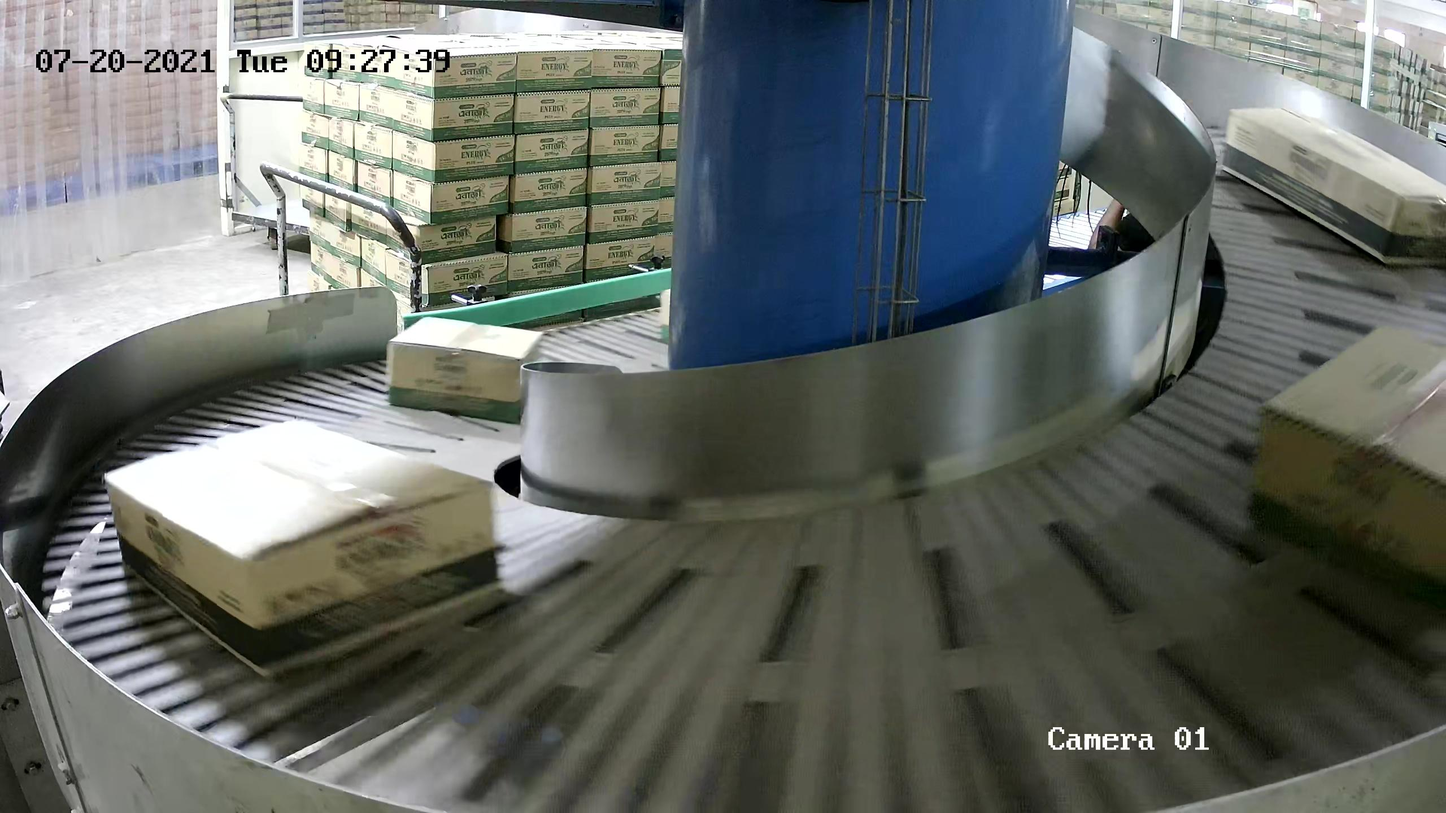Box: (101, 415, 504, 682), (1245, 315, 1446, 629), (1219, 105, 1446, 270), (384, 315, 544, 426)
